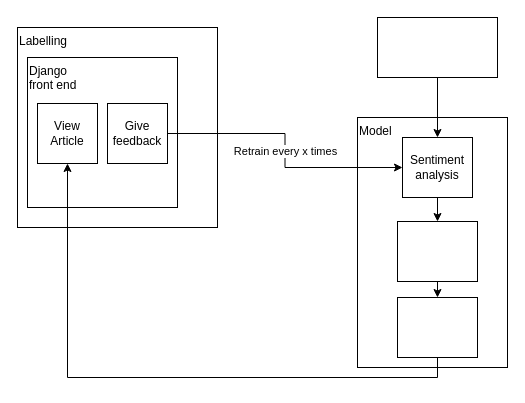
This 525x403 diagram has some shape labels left out. Here are the shapes that lost their labels. From the top down, the centre of each, then its label:
the point at 437,47: Headline scraper
the point at 437,251: Classification
the point at 437,327: Filtering
